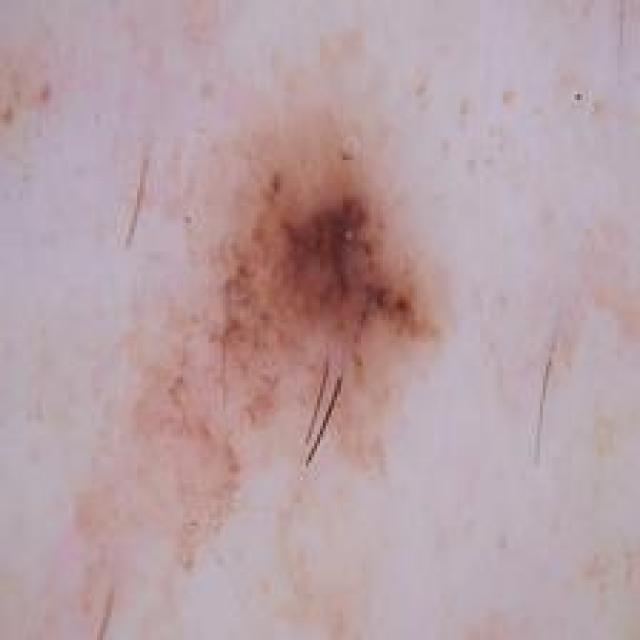Cancer: (216, 142, 432, 441)
